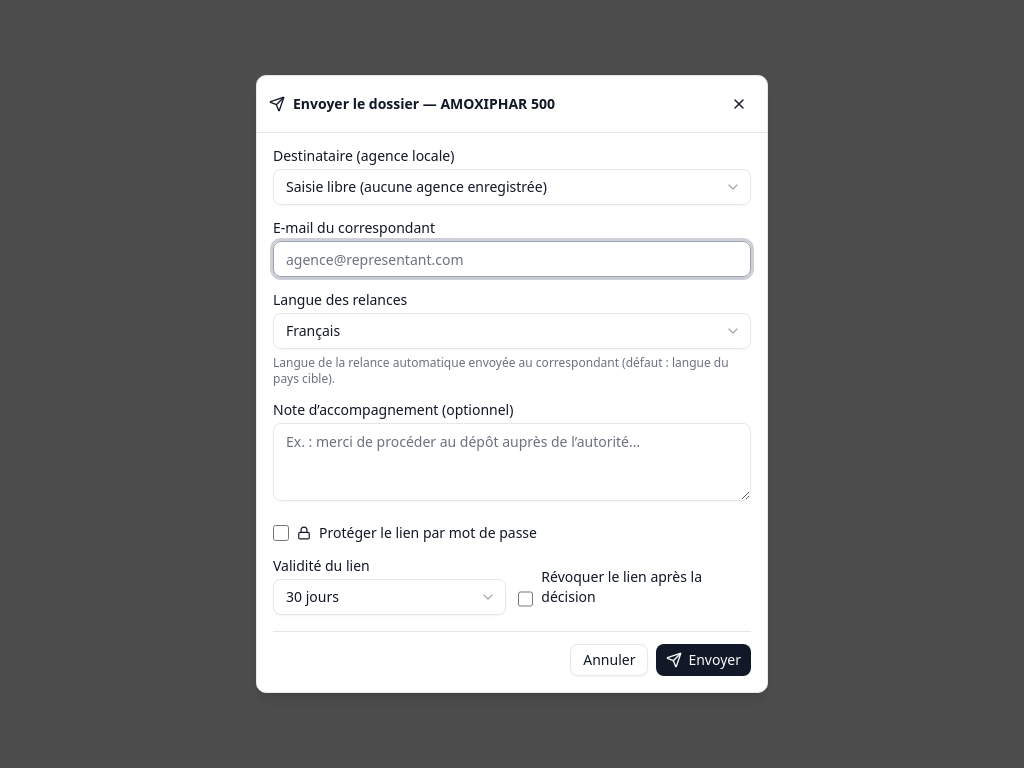
Test: ShareDialog — destinataire depuis la base des agences (P3) › nom déjà connu (autre rôle) : annonce la réutilisation et FUSIONNE au lieu de dupliquer
Select "＋ Nouvelle agence" in the dropdown labelled "Destinataire (agence locale)" at (512, 187), box left=273, top=169, right=751, bottom=205
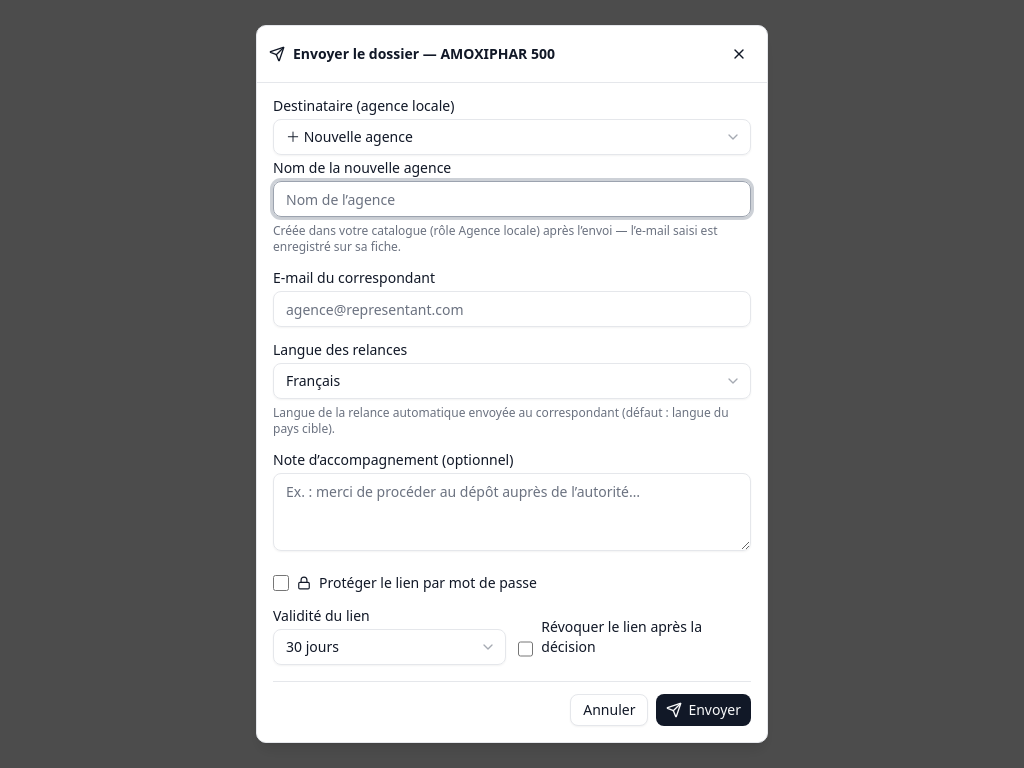
Type "PHARMAX" into the field labelled "Nom de la nouvelle agence" at (512, 199), box left=273, top=181, right=751, bottom=217
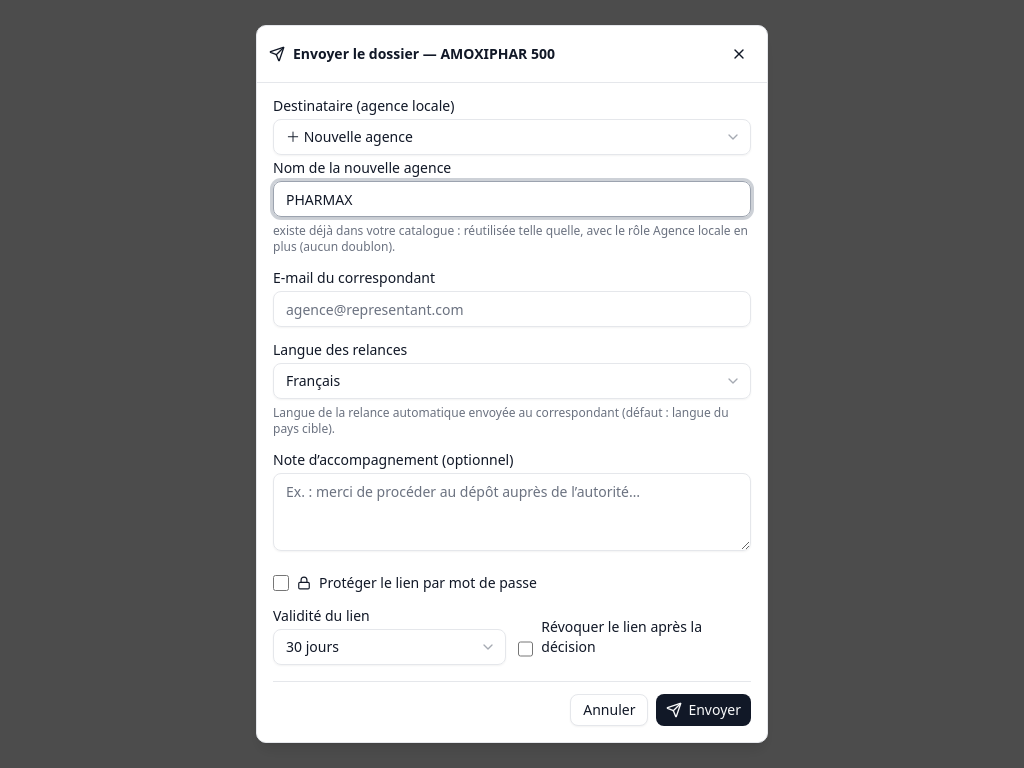
Now the text "existe déjà" is shown, box left=273, top=222, right=748, bottom=255
Type "depots@pharmax.ci" into the field labelled "E-mail du correspondant" at (512, 309), box left=273, top=291, right=751, bottom=327
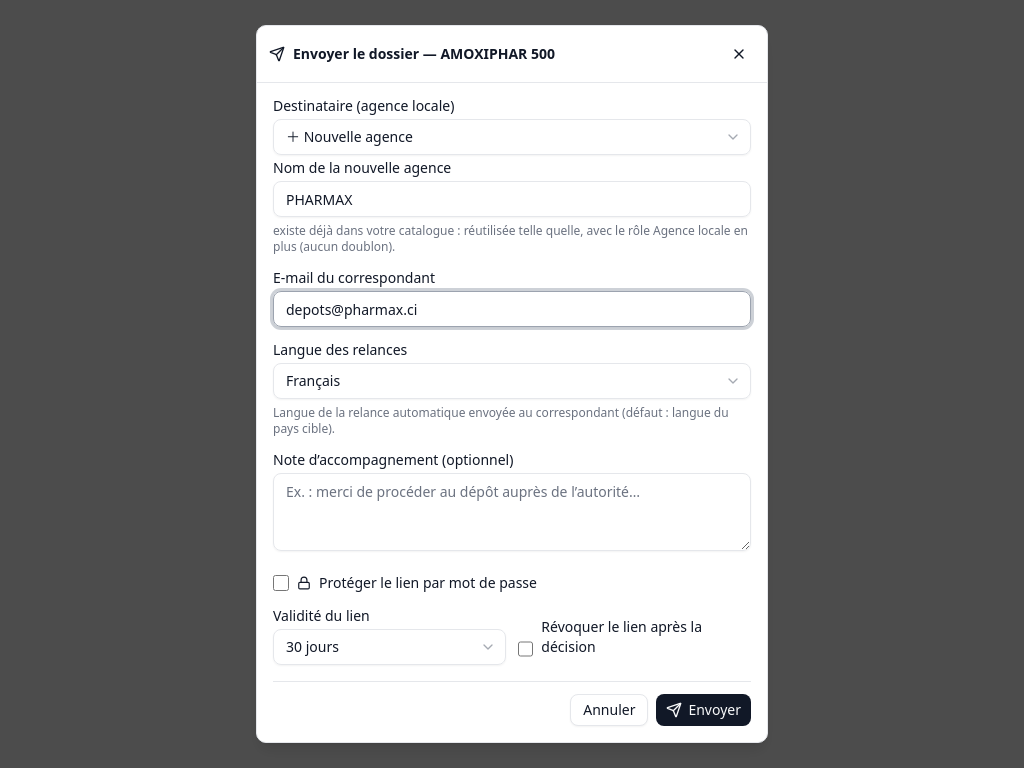
Click the button "Envoyer" at (704, 710), box left=656, top=694, right=751, bottom=726
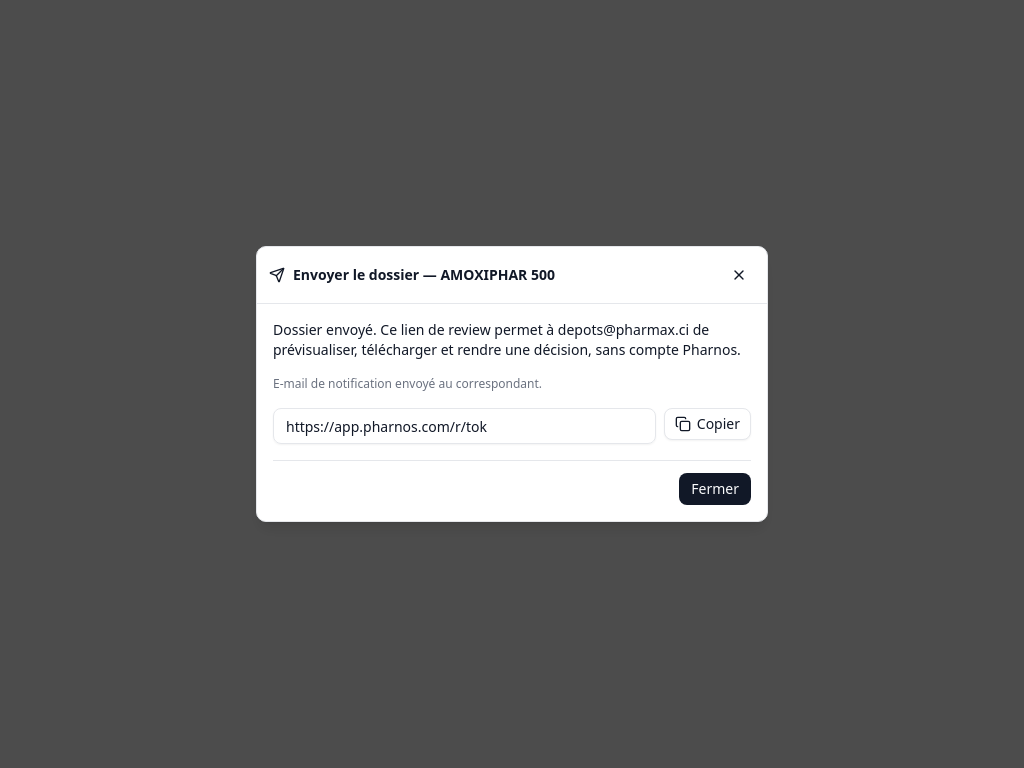
Now the text "depots@pharmax.ci" is shown, box left=558, top=320, right=689, bottom=339
